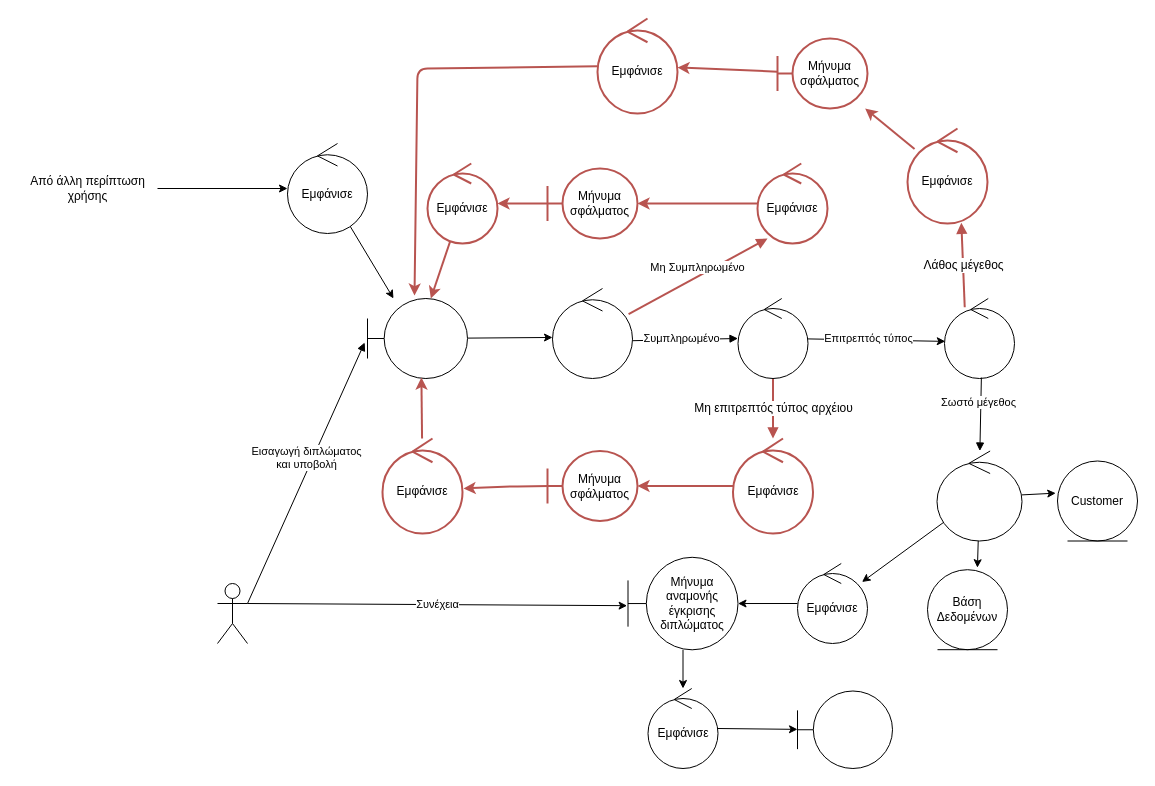
The diagram is 1155 pixels wide and 786 high, and some of its shapes have lost their labels. The shapes that lost their labels are listed below. From the top down, each one's centre as x and y in pixels, then its label:
(417,338): Σελίδα "Εισαγωγή Διπλώματος"
(592,333): Έλεγχος υποχρεωτικού πεδιου
(772,338): Έλεγχος τύπου εικόνας
(979,338): Έλεγχος μεγέθους εικόνας
(979,495): Αποθήκευση
(232,613): Πελάτης
(844,729): Αρχική οθόνη
